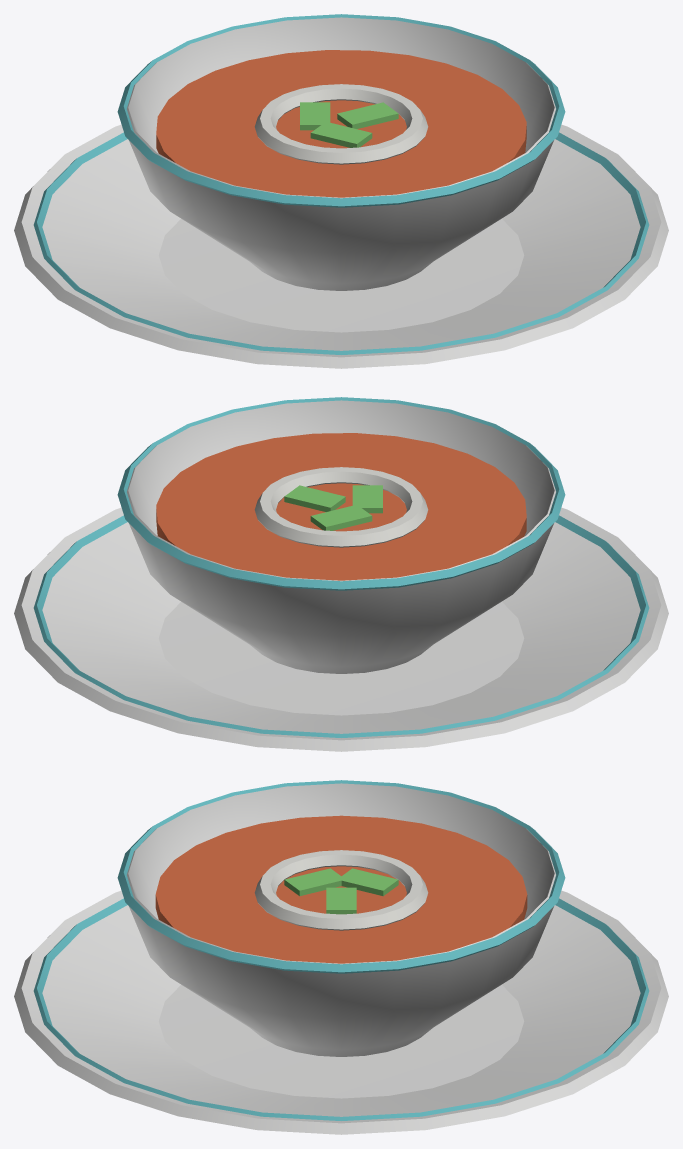
Rendered from kr_dish_tomato.glb.
3 renders of one model, top to bottom at view 1: azimuth 30°, elevation 25°; view 2: azimuth 150°, elevation 25°; view 3: azimuth 270°, elevation 25°, orthographic.
Visible parts, largest first — view 1: vc_m0_r2, vc_m0_r4, vc_m0_r6; view 2: vc_m0_r2, vc_m0_r4, vc_m0_r6; view 3: vc_m0_r2, vc_m0_r4, vc_m0_r6.
Boxes of the visible parts, box(x1,y1,x2,y2) form: vc_m0_r2: box(14, 17, 668, 368); vc_m0_r4: box(33, 14, 649, 354); vc_m0_r6: box(300, 102, 398, 147); vc_m0_r2: box(14, 400, 668, 751); vc_m0_r4: box(33, 397, 649, 737); vc_m0_r6: box(284, 485, 382, 530); vc_m0_r2: box(14, 783, 668, 1134); vc_m0_r4: box(33, 780, 649, 1120); vc_m0_r6: box(284, 868, 398, 914).
Size of the model in its own units: 0.43 by 0.126 by 0.43.
